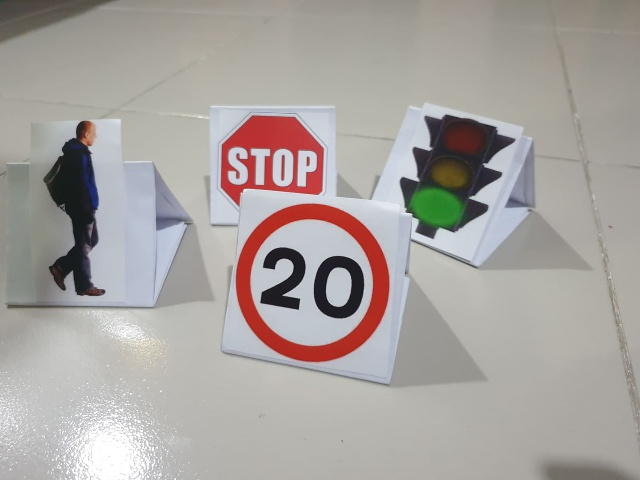Green: (409, 108, 497, 248)
Limit 20: (238, 207, 389, 369)
Person: (32, 119, 125, 301)
Stop: (214, 112, 328, 206)
